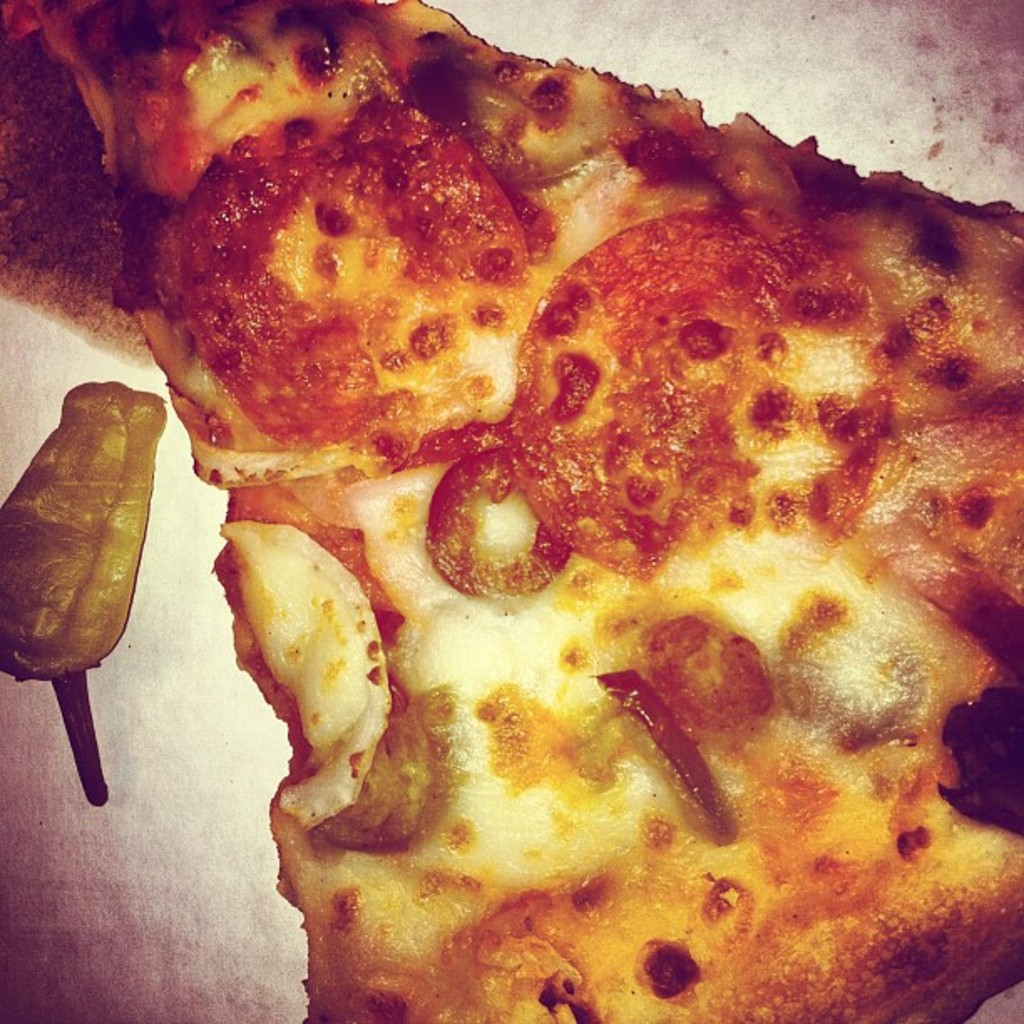Pizza: (5, 0, 1022, 1013)
